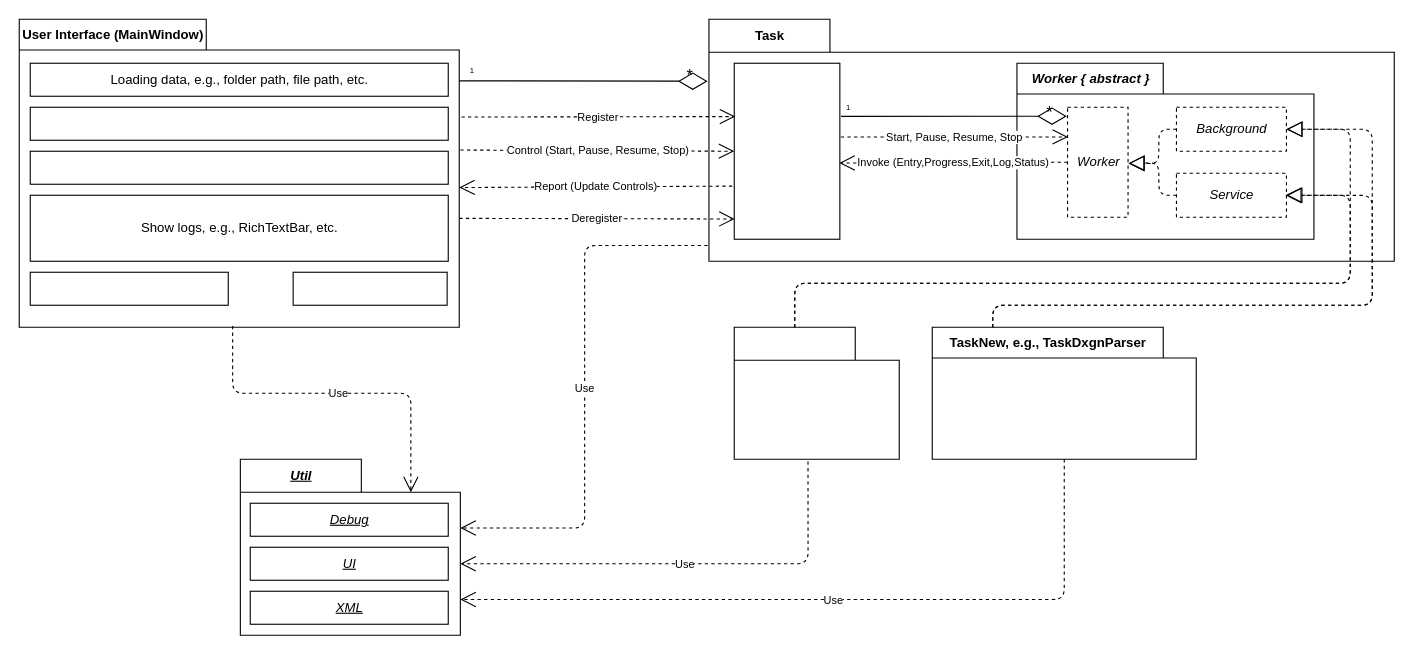
This 1414x655 diagram has some shape labels left out. Here are the shapes that lost their labels. From the top down, the centre of each, then its label:
(238,123): Control task, e.g., Button, etc.
(238,167): Show progress, e.g., ProgressBar, etc.
(786,150): Task.Manager
(128,288): Show status, e.g., Label, etc.
(369,288): Show progress(sub)
(816,392): TaskTemplate
